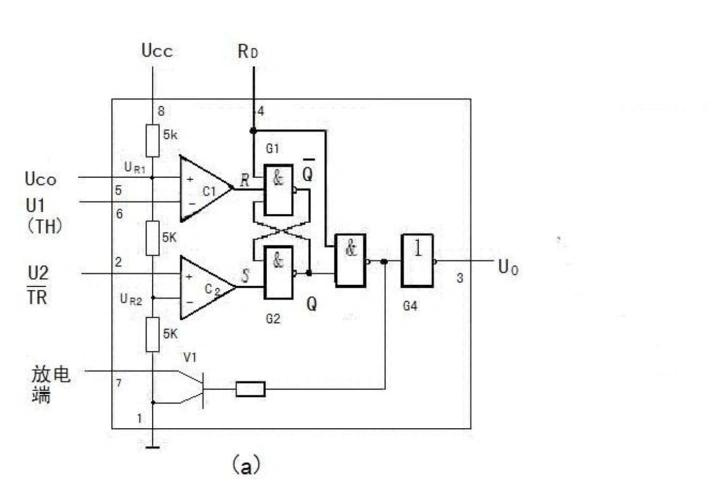bistable flip-flop: (263, 163, 365, 301)
comparator1: (179, 253, 237, 319), (180, 155, 233, 224)
discharge circuit: (182, 369, 206, 409)
output circuit: (402, 233, 432, 287)
reset circuit: (244, 121, 264, 148)
resistance: (145, 218, 159, 256), (145, 123, 160, 157), (147, 316, 160, 351)
